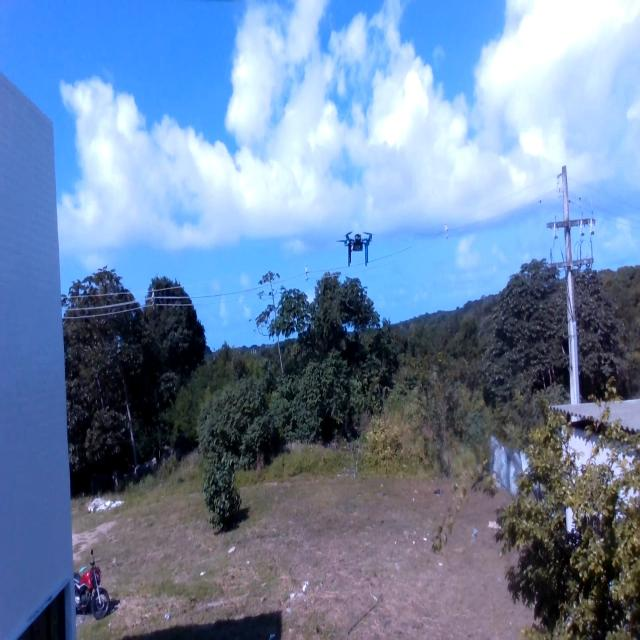-uav-: (335, 225, 379, 273)
